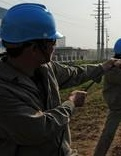hard-hat: (0, 1, 64, 42)
ppe-suit: (0, 55, 103, 154)
